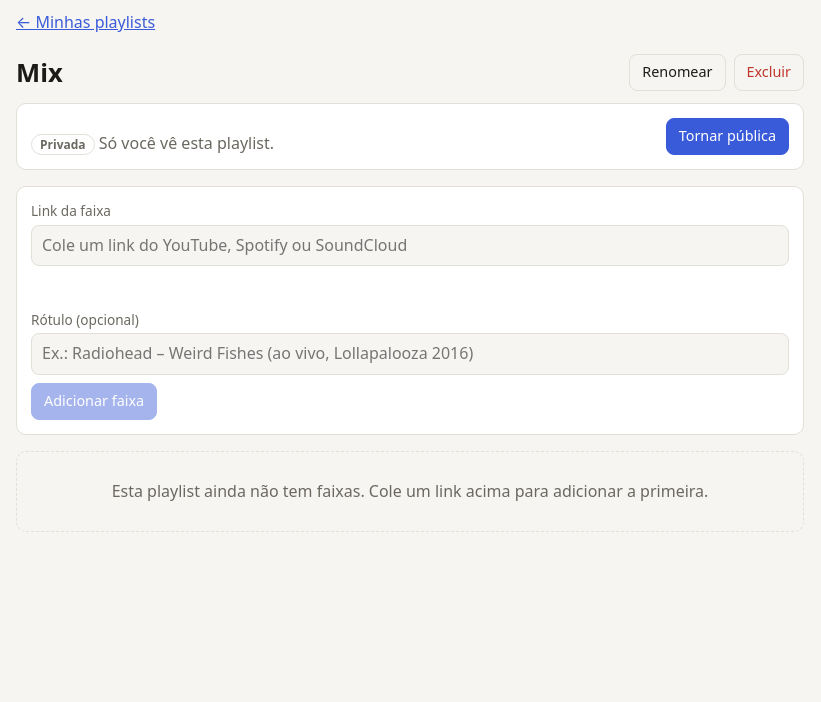
Test: PlaylistPage — visibilidade › privada não mostra link; publicar faz o link aparecer; privar o esconde de novo
Expected: the heading "Mix" is shown, [16, 54, 63, 91]
Expected: the text "Privada" is shown, [31, 134, 95, 155]
Click the button "Tornar pública" at (727, 137), box [666, 118, 789, 155]
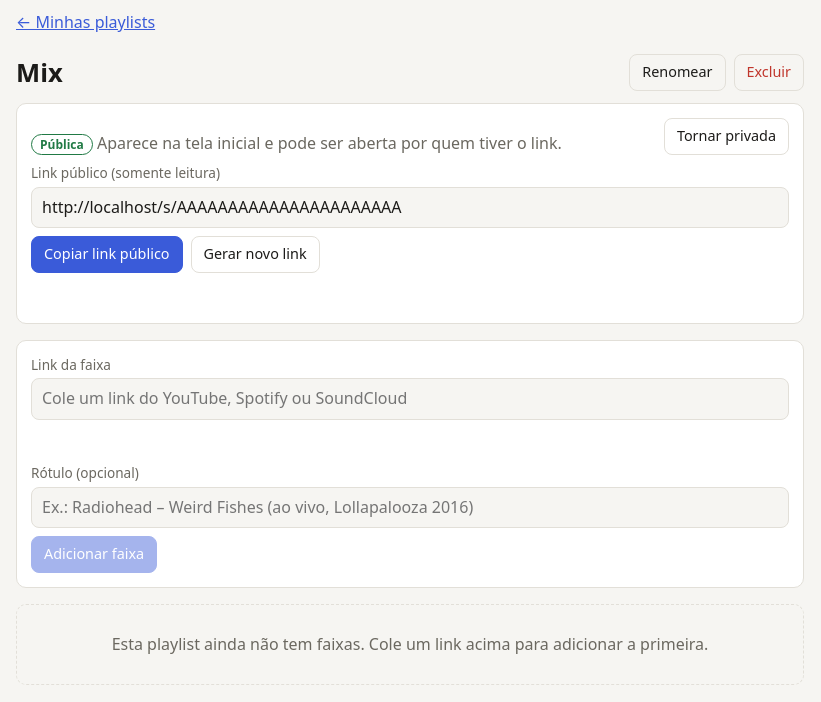
Now the text "Pública" is shown, box [31, 134, 93, 155]
Now the button "Copiar link público" is shown, box [31, 236, 182, 273]
Now the button "Gerar novo link" is shown, box [190, 236, 320, 273]
Click the button "Tornar privada" at (726, 137), box [664, 118, 789, 155]
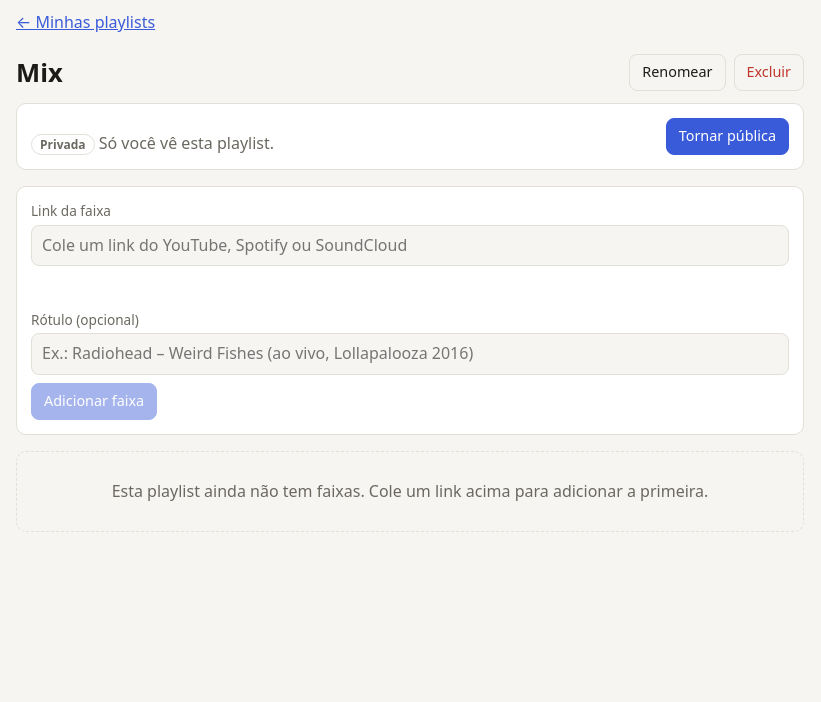
Now the label labelled "Link público" is gone
